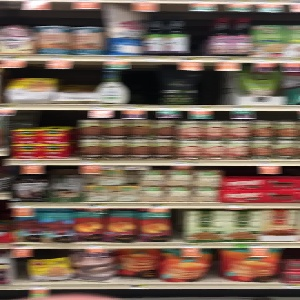void: (198, 63, 236, 106), (127, 63, 164, 105)
